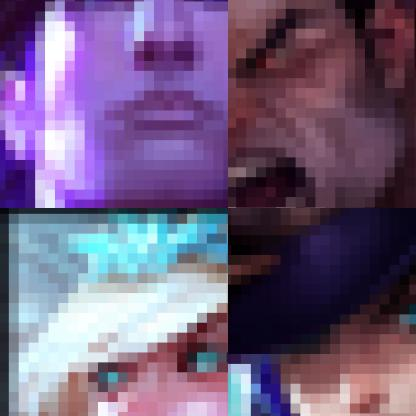Caitlyn: (228, 208, 415, 415)
Darius: (228, 0, 415, 207)
Janna: (0, 208, 227, 415)
Taric: (0, 0, 227, 207)
